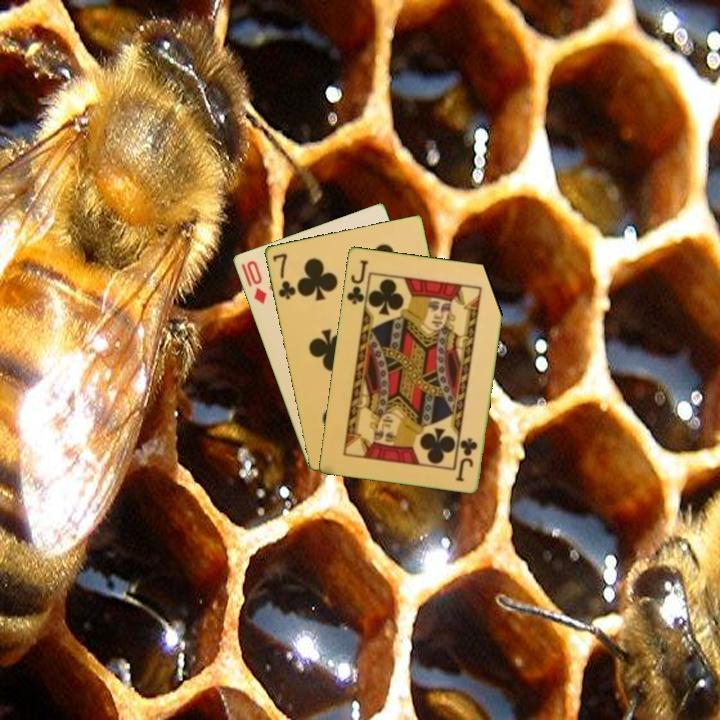10d: (243, 257, 269, 307)
7c: (269, 249, 298, 302)
Jc: (343, 256, 371, 311), (453, 434, 480, 484)
